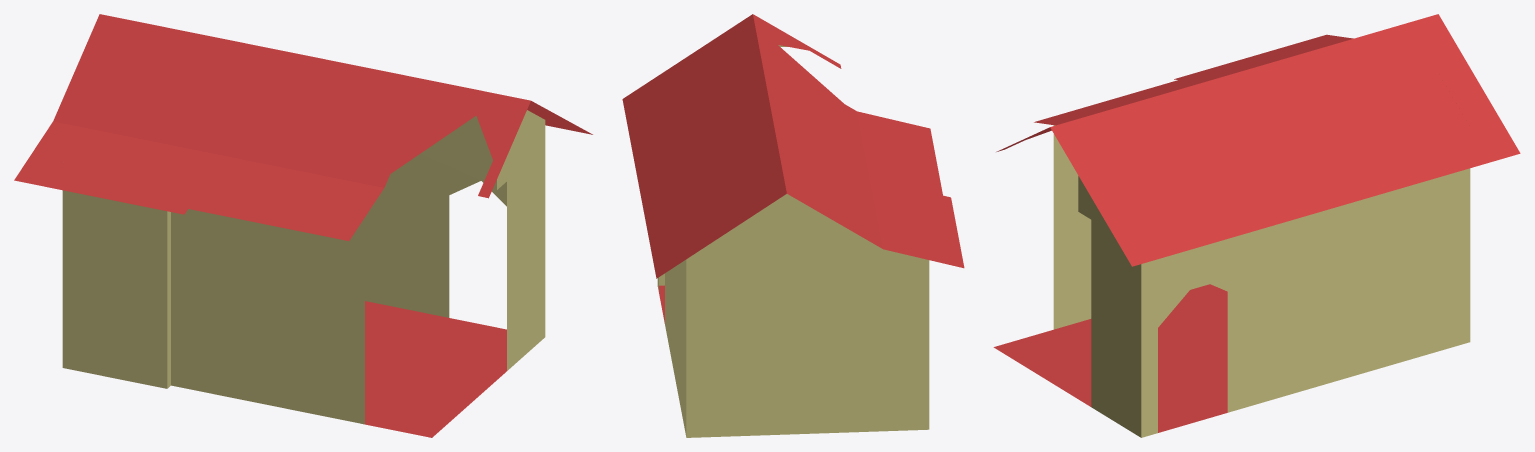
The picture shows the model from 3 angles, left to right: view 1: azimuth 30°, elevation 25°; view 2: azimuth 150°, elevation 25°; view 3: azimuth 270°, elevation 25°; orthographic projection. The views are drawn at different scales.
Bounding box in the file's own units: 22.83 × 21.92 × 12.92.
